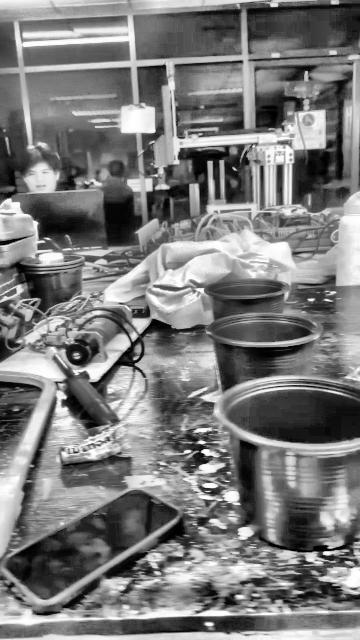pot: (215, 376, 359, 551), (206, 313, 320, 391), (20, 255, 84, 312), (205, 278, 289, 319)
